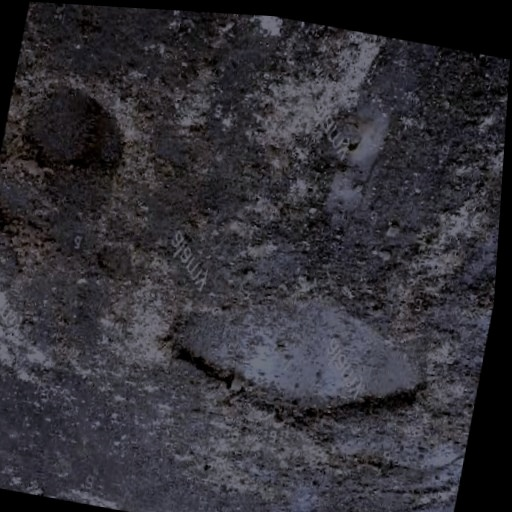pothole: (144, 269, 444, 456), (10, 78, 133, 188), (301, 100, 400, 232)
